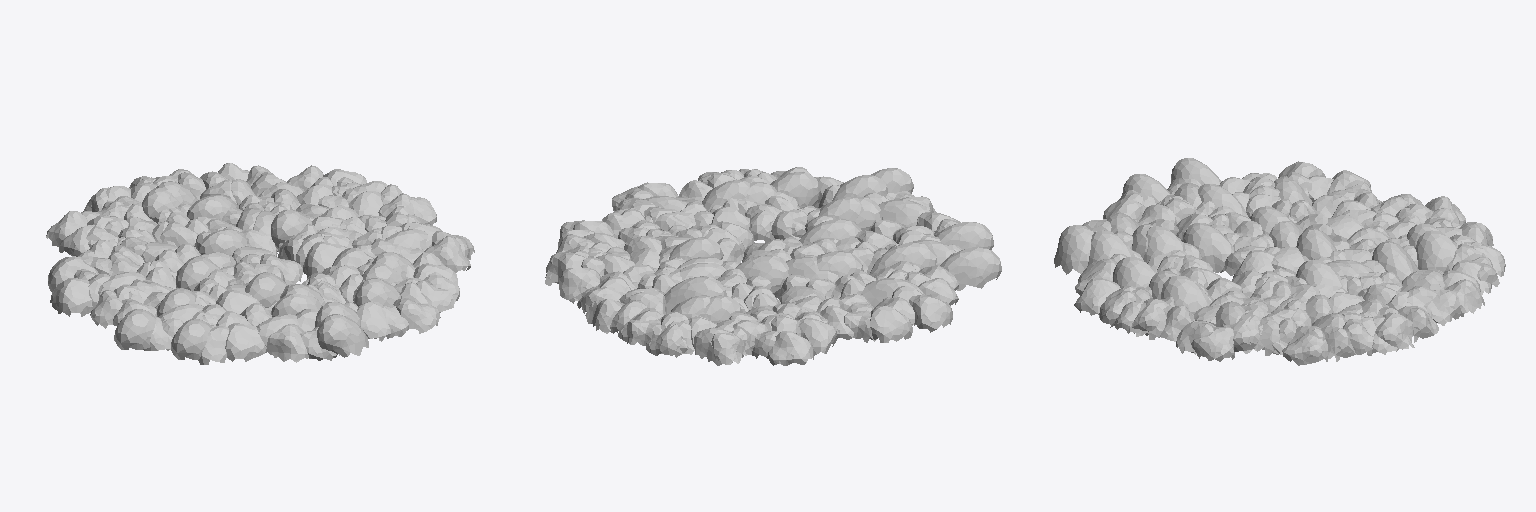
File: rocks.obj
3 views of the same model, side by side, from view 1: azimuth 30°, elevation 25°; view 2: azimuth 150°, elevation 25°; view 3: azimuth 270°, elevation 25° (orthographic).
Parts seen in each view (by area): view 1: Rock_garden.001_Circle.001; view 2: Rock_garden.001_Circle.001; view 3: Rock_garden.001_Circle.001.
Boxes of the visible parts, <box> form: Rock_garden.001_Circle.001: <box>46,163,474,364</box>; Rock_garden.001_Circle.001: <box>545,167,1001,365</box>; Rock_garden.001_Circle.001: <box>1054,158,1505,365</box>.
Size of the model in its own units: 1.07 by 0.0993 by 1.11.